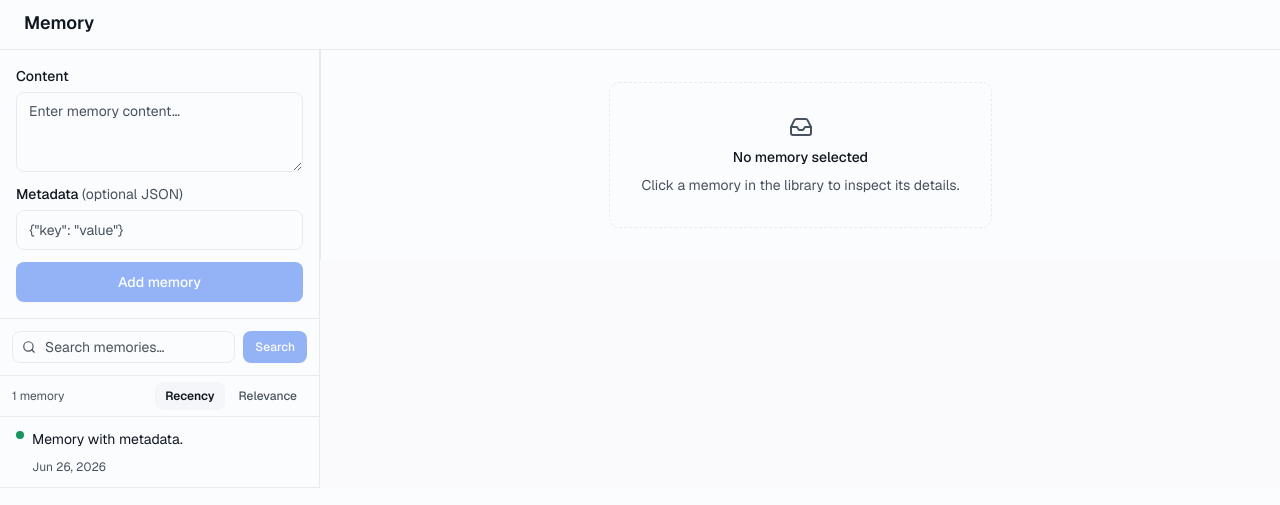
it: MemoryWorkspace — Console-grade behaviors › inspector_pane_shows_full_content_and_metadata
Click the option "Memory with metadata. Jun 26, 2026": {"x": 107, "y": 439} [0,417,319,488]
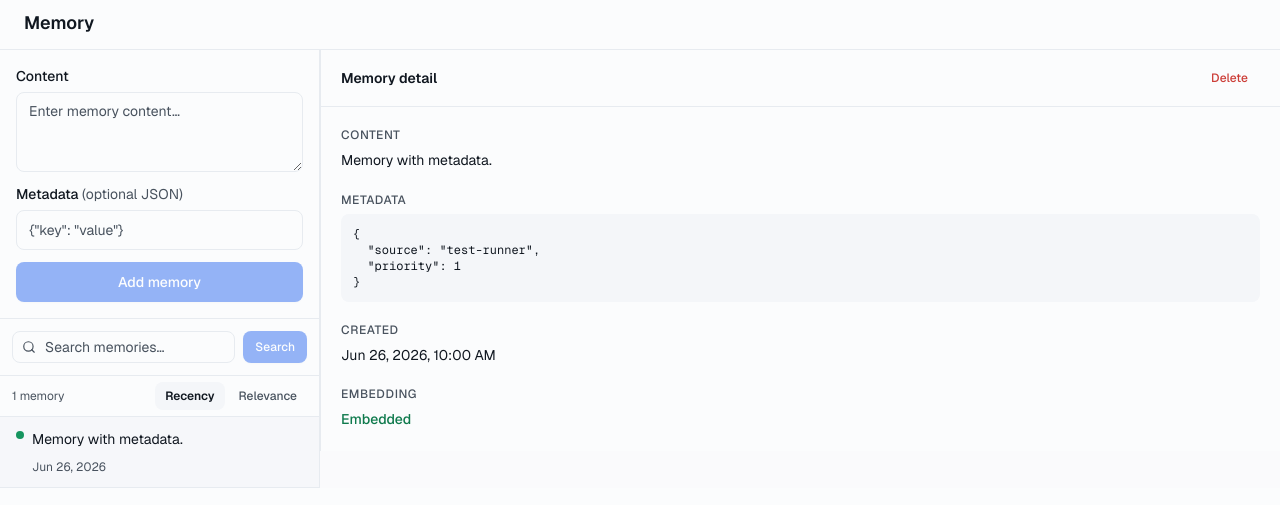
Expected: the text "Memory with metadata." below "Memory detail" is shown, [341,151,492,169]
Expected: the text "{ \"source\": \"test-runner\", \"priority\": 1 }" is shown, [341,214,1260,302]
